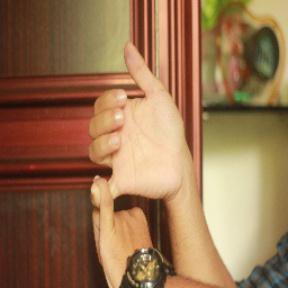S: (82, 39, 190, 279)
